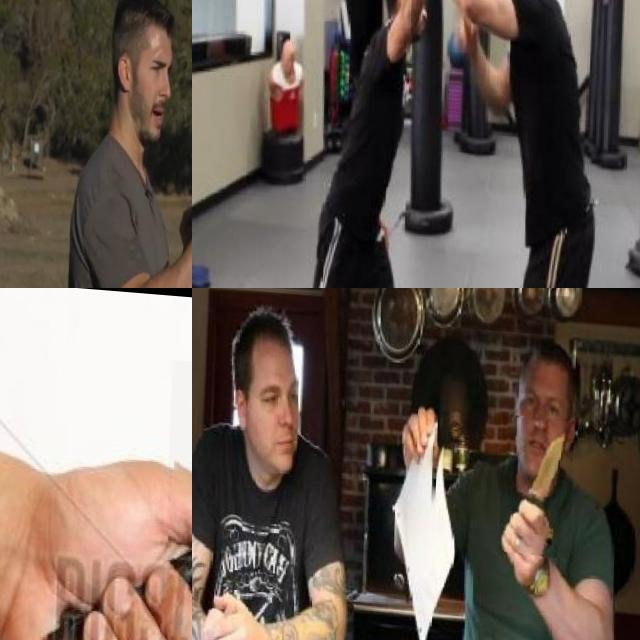-: (501, 407, 575, 550), (411, 0, 489, 38)
